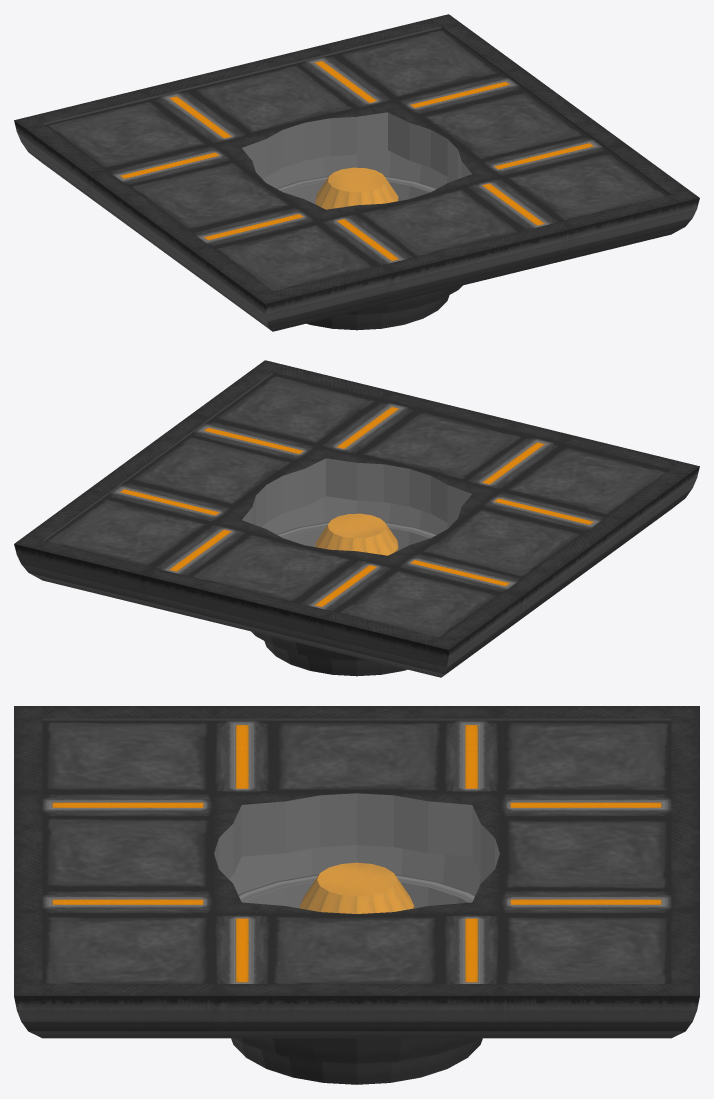
The model's file is platformlarge.fbx.
The picture shows the model from 3 angles, top to bottom: view 1: azimuth 30°, elevation 25°; view 2: azimuth 150°, elevation 25°; view 3: azimuth 270°, elevation 25°; orthographic projection. The views are drawn at different scales.
Visible parts, largest first — view 1: Cylinder.005, Cylinder.009, Plane, Cylinder.006, Cylinder.007, Cylinder.010, Cylinder.008, Cylinder.002, Cylinder.003, Cube.007, Cube.002, Cube.000 (+3 smaller); view 2: Cylinder.010, Plane, Cylinder.006, Cylinder.004, Cylinder.008, Cylinder.007, Cylinder.005, Cylinder.003, Cube.000, Cylinder.009, Cube.003, Cube.007 (+3 smaller); view 3: Cylinder.007, Cylinder.002, Plane, Cylinder.010, Cylinder.005, Cylinder.006, Cylinder.003, Cylinder.004, Cube.003, Cube.002, Cube.000, Cube.007 (+3 smaller).
Part boxes in pixels (bbox=[...]): Cylinder.005: bbox=[152, 54, 394, 178]; Cylinder.009: bbox=[192, 221, 572, 331]; Plane: bbox=[242, 112, 471, 209]; Cylinder.006: bbox=[388, 74, 607, 181]; Cylinder.007: bbox=[108, 145, 325, 247]; Cylinder.010: bbox=[319, 174, 560, 265]; Cylinder.008: bbox=[14, 89, 209, 283]; Cylinder.002: bbox=[504, 68, 699, 260]; Cylinder.003: bbox=[262, 150, 462, 330]; Cube.007: bbox=[333, 28, 503, 100]; Cube.002: bbox=[45, 99, 213, 170]; Cube.000: bbox=[500, 150, 668, 221]; Cylinder.010: bbox=[319, 400, 561, 524]; Plane: bbox=[242, 458, 471, 555]; Cylinder.006: bbox=[106, 420, 325, 527]; Cylinder.004: bbox=[14, 490, 331, 650]; Cylinder.008: bbox=[322, 515, 626, 677]; Cylinder.007: bbox=[388, 491, 605, 593]; Cylinder.005: bbox=[153, 520, 394, 611]; Cylinder.003: bbox=[251, 496, 451, 676]; Cube.000: bbox=[210, 374, 380, 446]; Cylinder.009: bbox=[381, 391, 699, 552]; Cube.003: bbox=[500, 445, 668, 516]; Cube.007: bbox=[45, 496, 213, 567]; Cylinder.007: bbox=[214, 720, 499, 856]; Cylinder.002: bbox=[14, 911, 499, 1038]; Plane: bbox=[214, 793, 499, 913]; Cylinder.010: bbox=[42, 793, 241, 913]; Cylinder.005: bbox=[472, 793, 671, 913]; Cylinder.006: bbox=[214, 902, 499, 983]; Cylinder.003: bbox=[229, 845, 484, 1084]; Cylinder.004: bbox=[500, 790, 699, 1038]; Cube.003: bbox=[42, 720, 213, 793]; Cube.002: bbox=[500, 720, 671, 793]; Cube.000: bbox=[42, 914, 213, 983]; Cube.007: bbox=[500, 914, 671, 983].
Bounding box in the file's own units: 4800 × 1387 × 4800.
